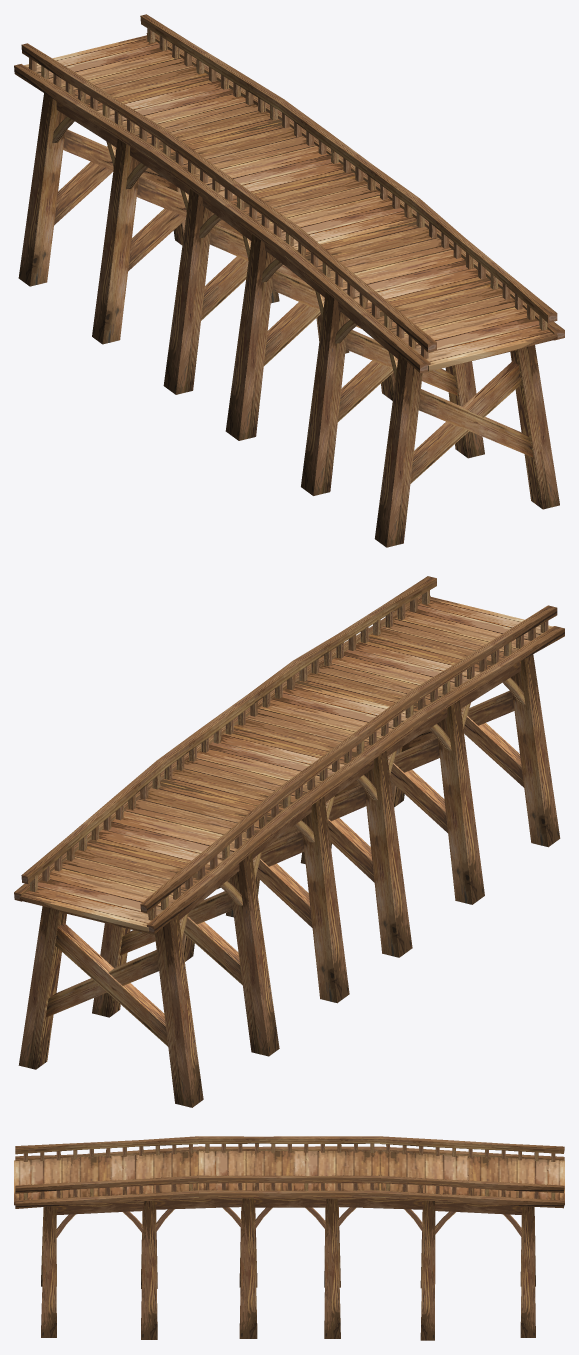
Rendered from bridge_wooden.fbx.
The picture shows the model from 3 angles, top to bottom: view 1: azimuth 30°, elevation 25°; view 2: azimuth 150°, elevation 25°; view 3: azimuth 270°, elevation 25°; orthographic projection. The views are drawn at different scales.
Parts seen in each view (by area): view 1: bridge_wooden; view 2: bridge_wooden; view 3: bridge_wooden.
Boxes of the visible parts, x1,y1,x2,y2 form: bridge_wooden: (14,14,564,547); bridge_wooden: (14,576,564,1107); bridge_wooden: (14,1136,564,1340).
Bounding box in the file's own units: 14440 × 57863 × 17932.
Materials: 1 (1 with a texture image).
